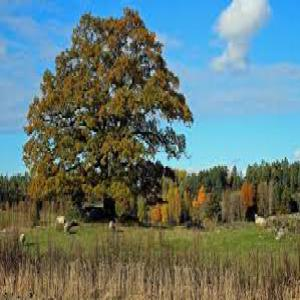Tree: (20, 3, 194, 222)
